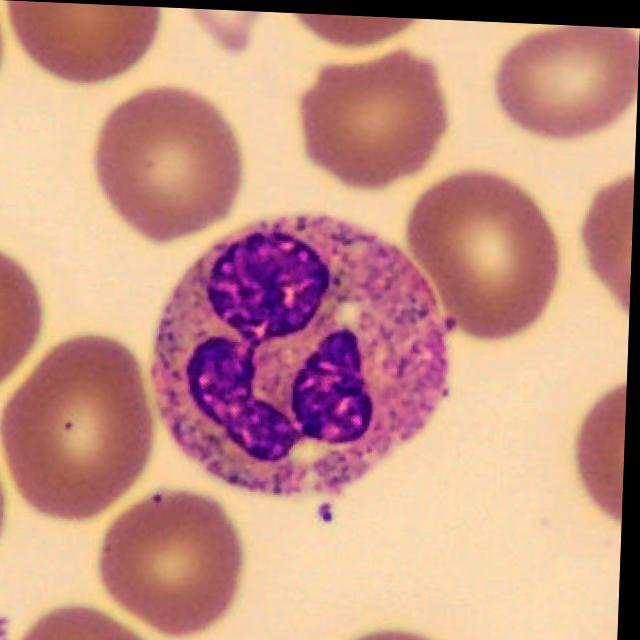Neutrofilo segmentado: (155, 214, 455, 494)
